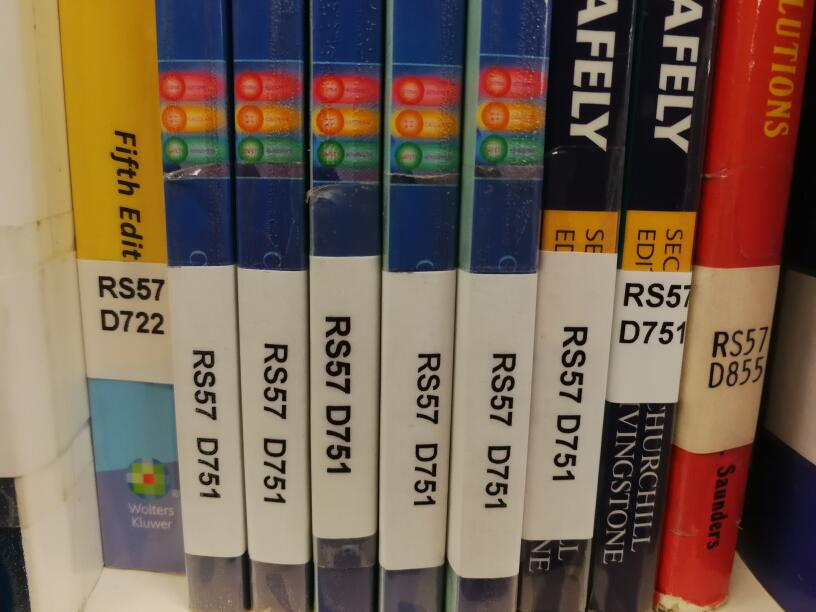booklabel: (550, 321, 591, 483), (482, 347, 518, 510), (187, 346, 225, 500), (257, 338, 291, 506), (409, 348, 444, 508), (322, 312, 356, 476), (616, 278, 694, 349), (93, 272, 168, 338), (705, 321, 772, 391)
